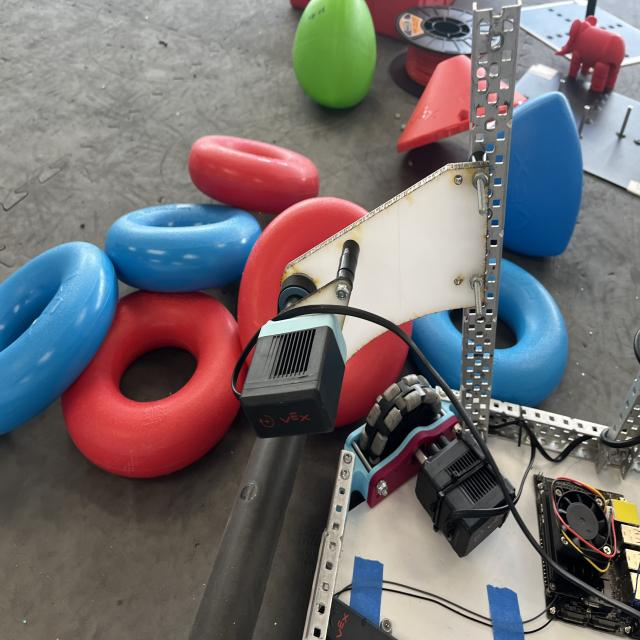Blue-Ring: (0, 242, 118, 435), (105, 203, 261, 292), (491, 258, 568, 407)
Red-Ring: (61, 292, 241, 477), (238, 197, 368, 348), (189, 135, 319, 215), (336, 316, 415, 424)
